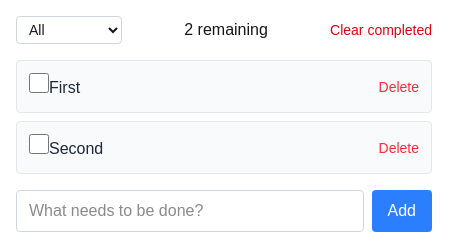
TodoList › should delete todo when delete button is clicked
Click the button with aria-label "Delete First".
click(399, 86)  # box [378,76,419,96]
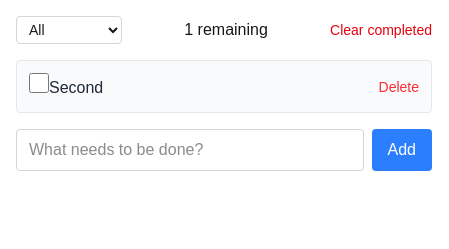
Expected: the checkbox labelled "Second" is shown, [29,73,49,93]
Expected: the text "First" is gone
